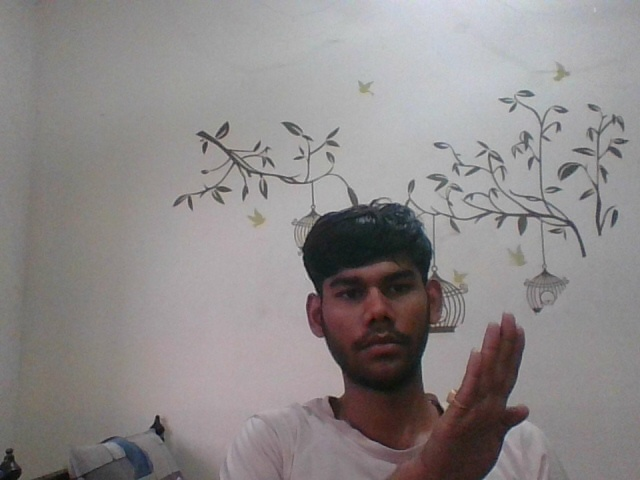Hello: (415, 313, 543, 472)
